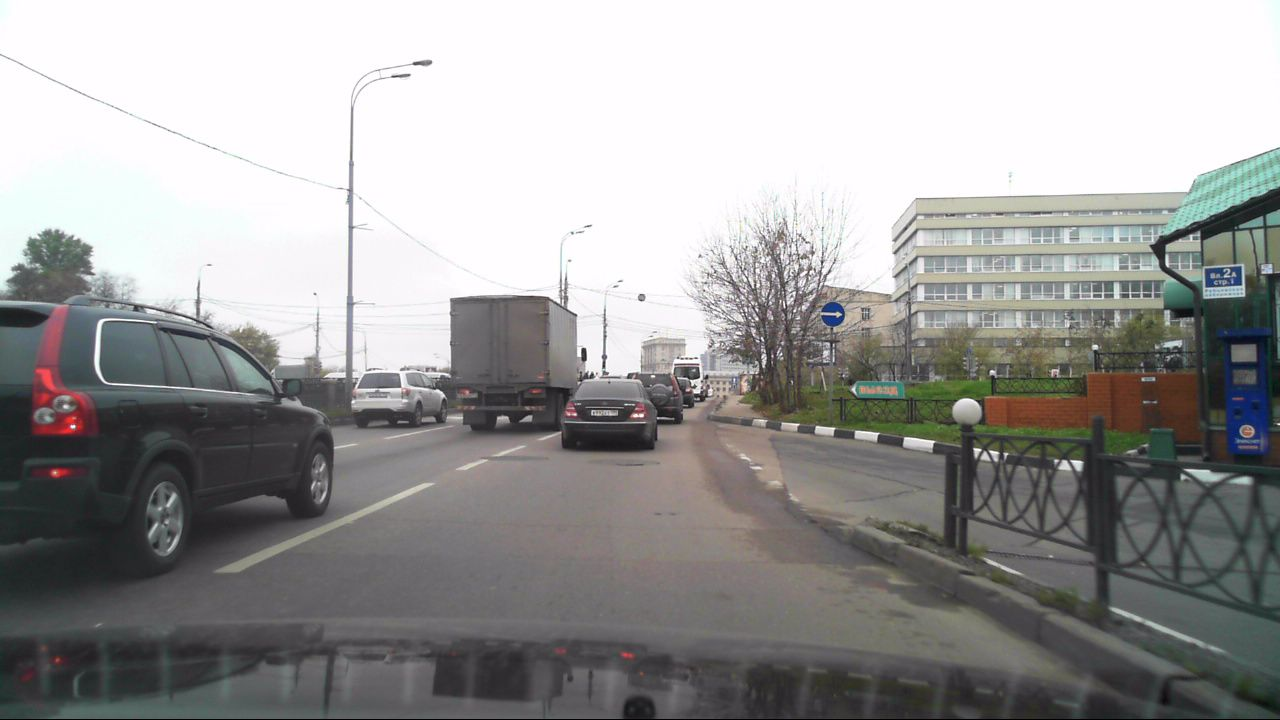Turn Right: (821, 302, 845, 327)
